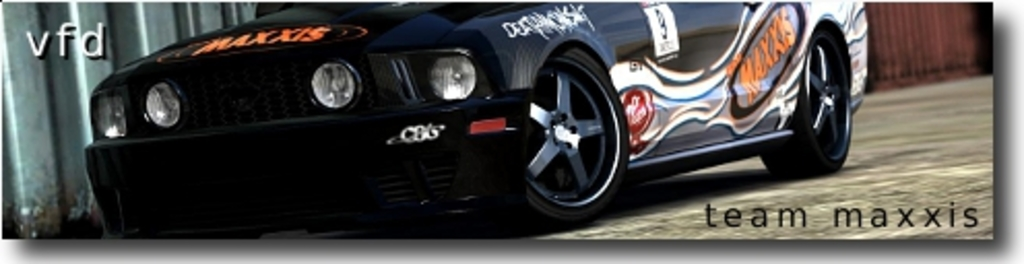Car: (78, 0, 867, 241)
